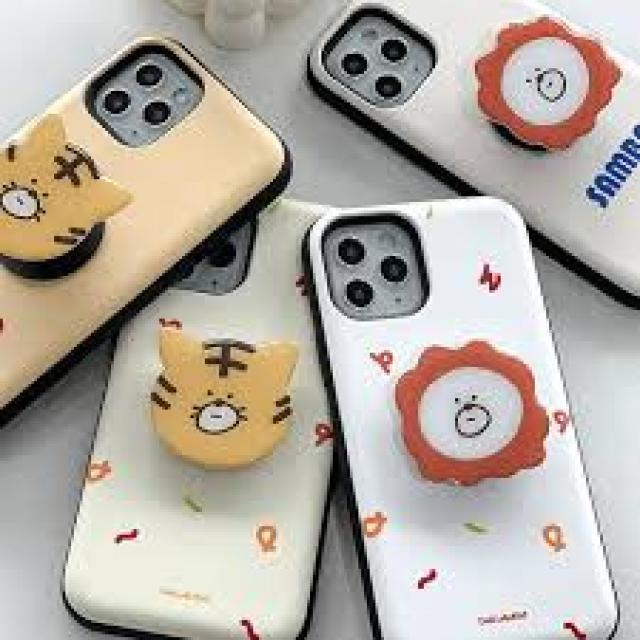Phone: (304, 193, 623, 640), (60, 157, 342, 640), (0, 30, 296, 424), (300, 0, 640, 311)
